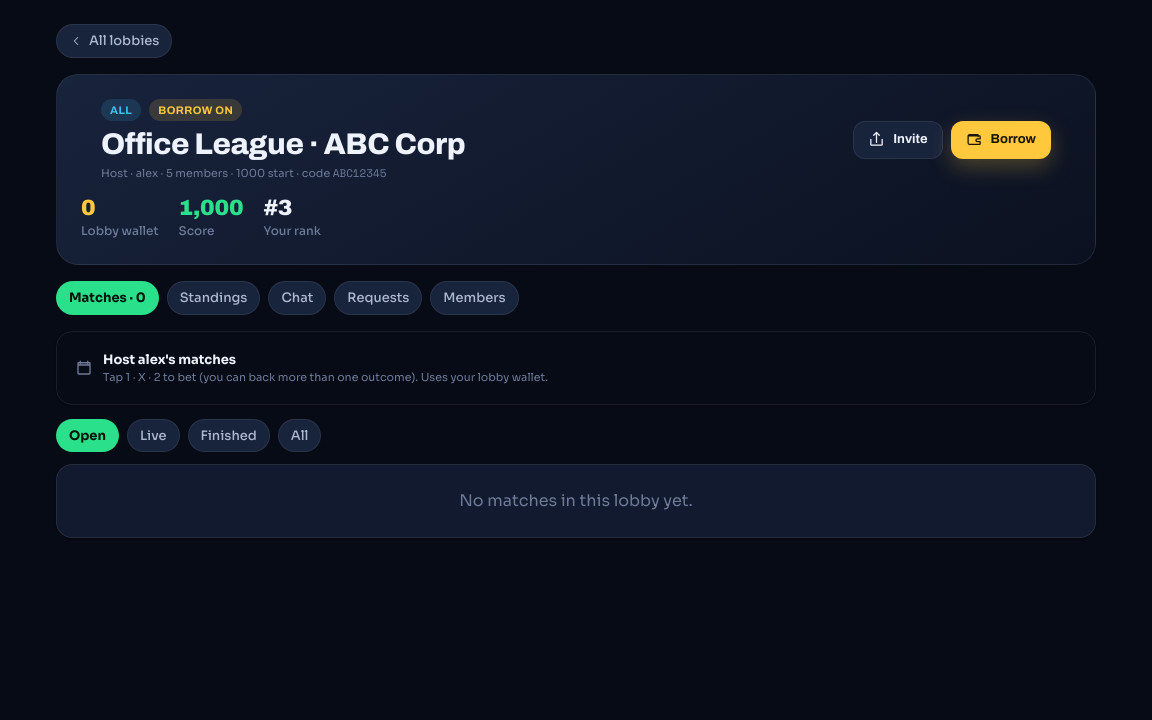
Test case: LobbyView › Chat tab renders message input
Check: the heading "Office League · ABC Corp" is shown, box [101, 129, 465, 161]
Click the button "Chat". click: coordinates (297, 298)
box: [268, 281, 326, 315]
(page scrolled)
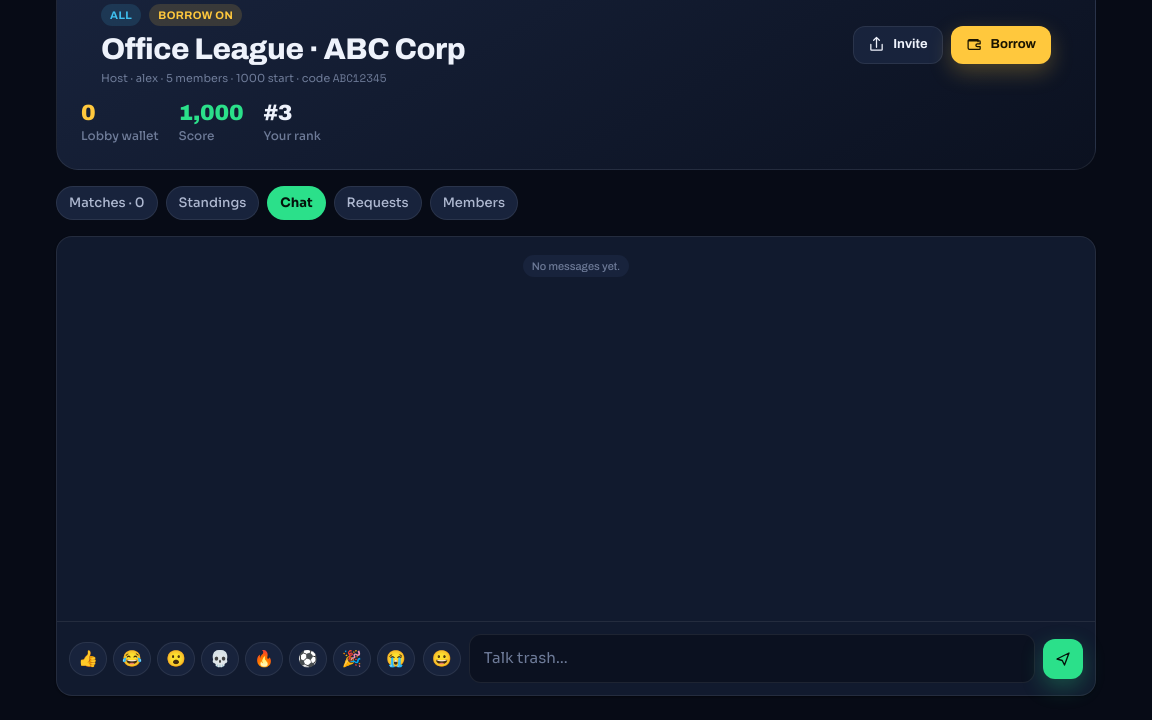
Check: the field with placeholder "Talk trash…" is shown, box [469, 634, 1035, 683]
